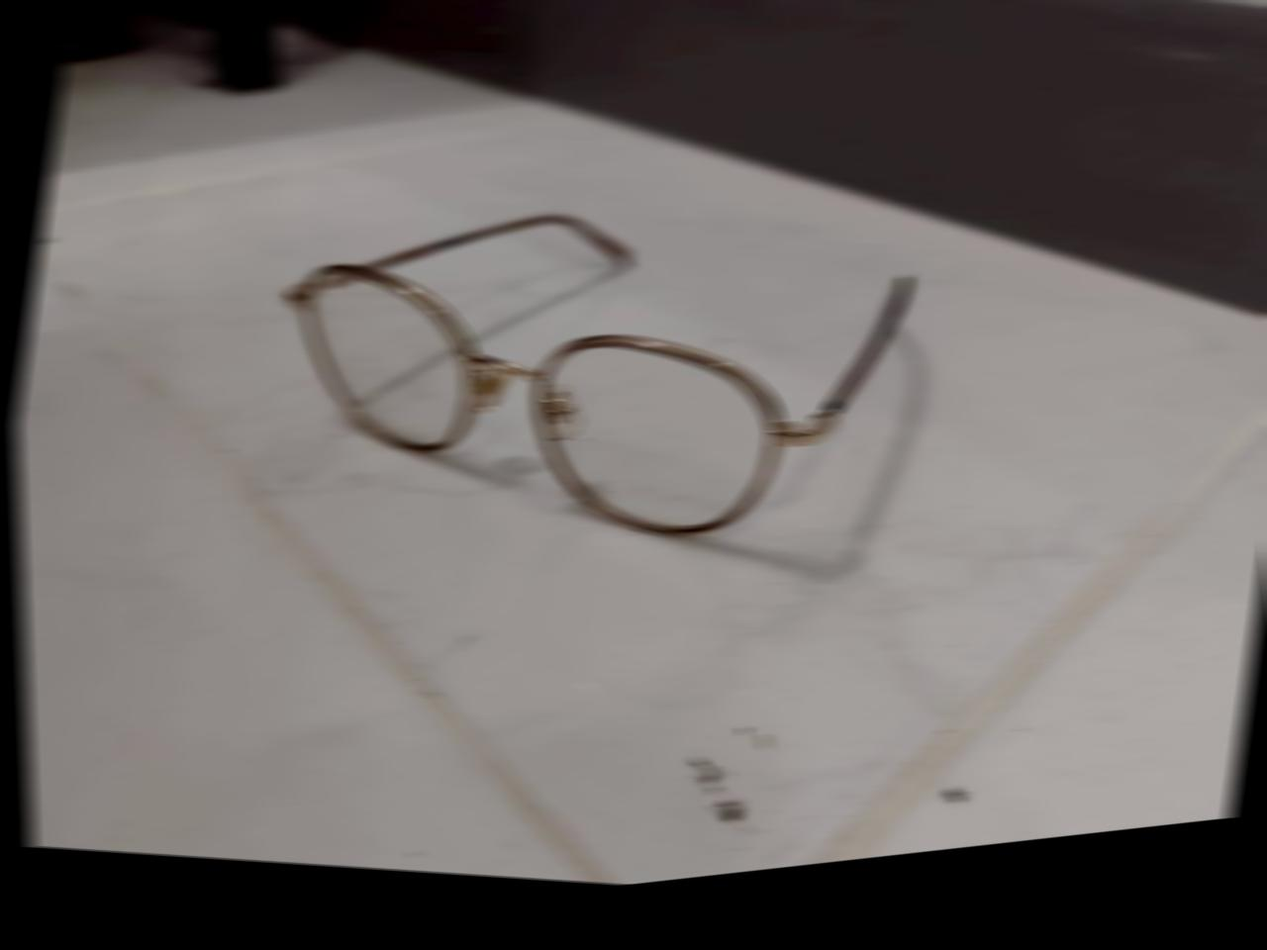glasses: (223, 117, 943, 624)
